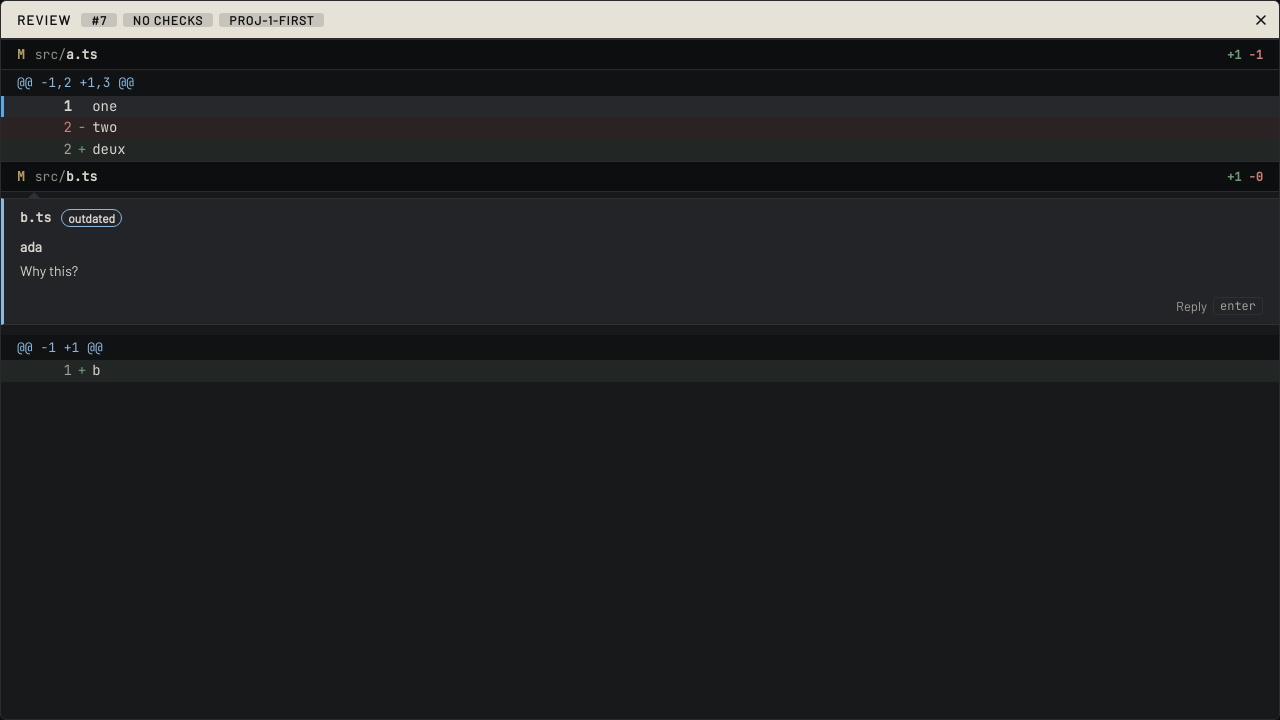
Test: the diff of a review › lifts a file rule the cursor stands on, and moves the cursor there on a press
This screenshot has width=1280, height=720.
Press the mouse on the heading "M src/b.ts +1 −0": coordinates (640, 176) [1,161,1279,192]
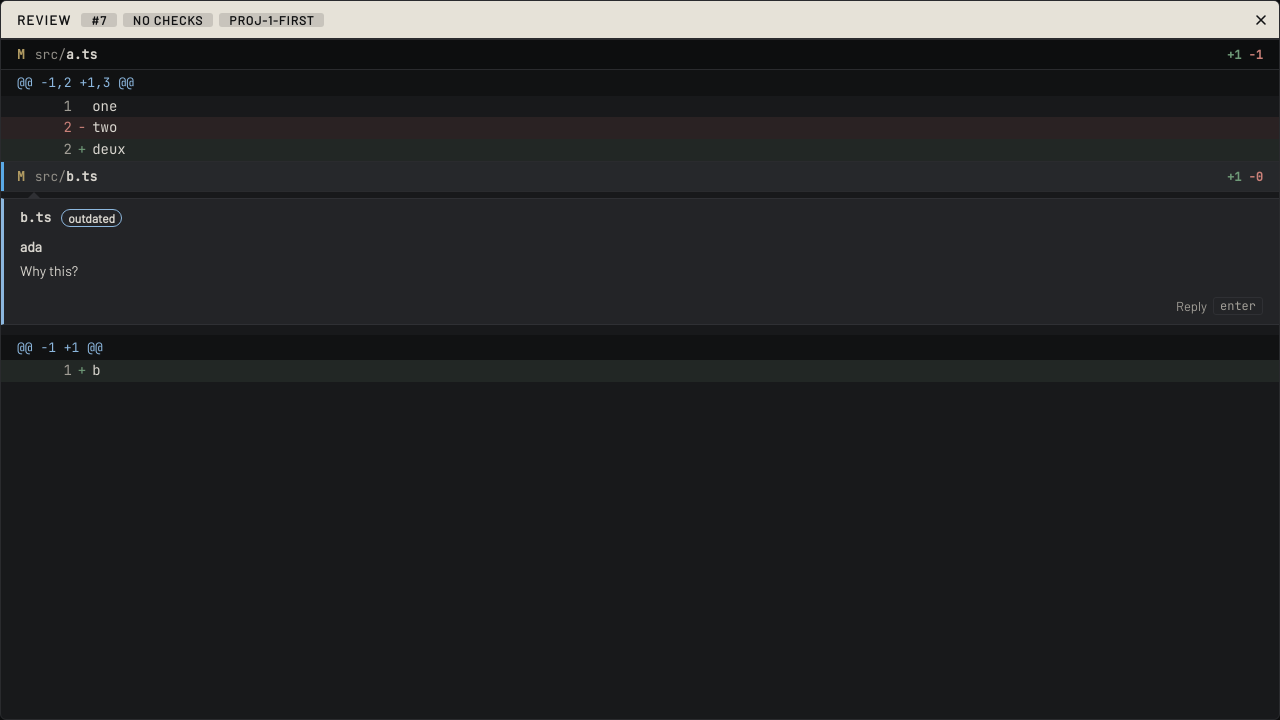
expect the heading "M src/b.ts +1 −0" is marked as current: met, box [1,161,1279,192]
